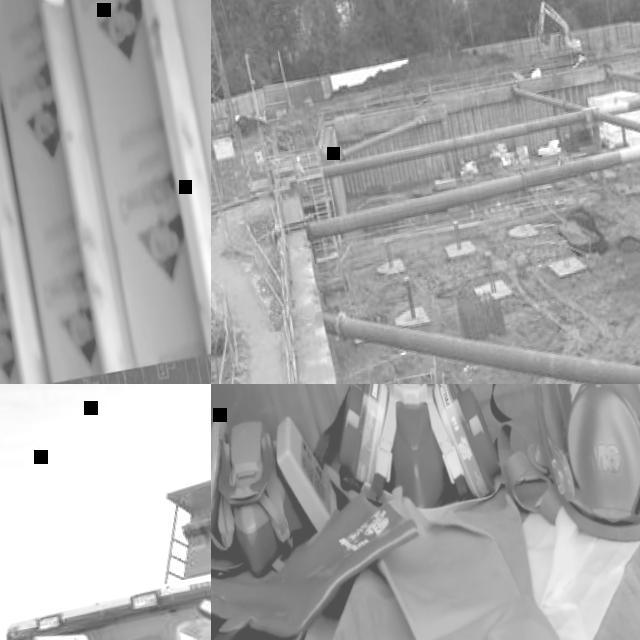helmet: (296, 156, 300, 162)
vest: (292, 154, 311, 202), (294, 162, 303, 178)
